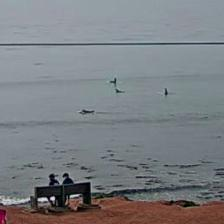surfer: (80, 109, 95, 114), (115, 89, 125, 93), (112, 77, 117, 84), (164, 88, 168, 96)
